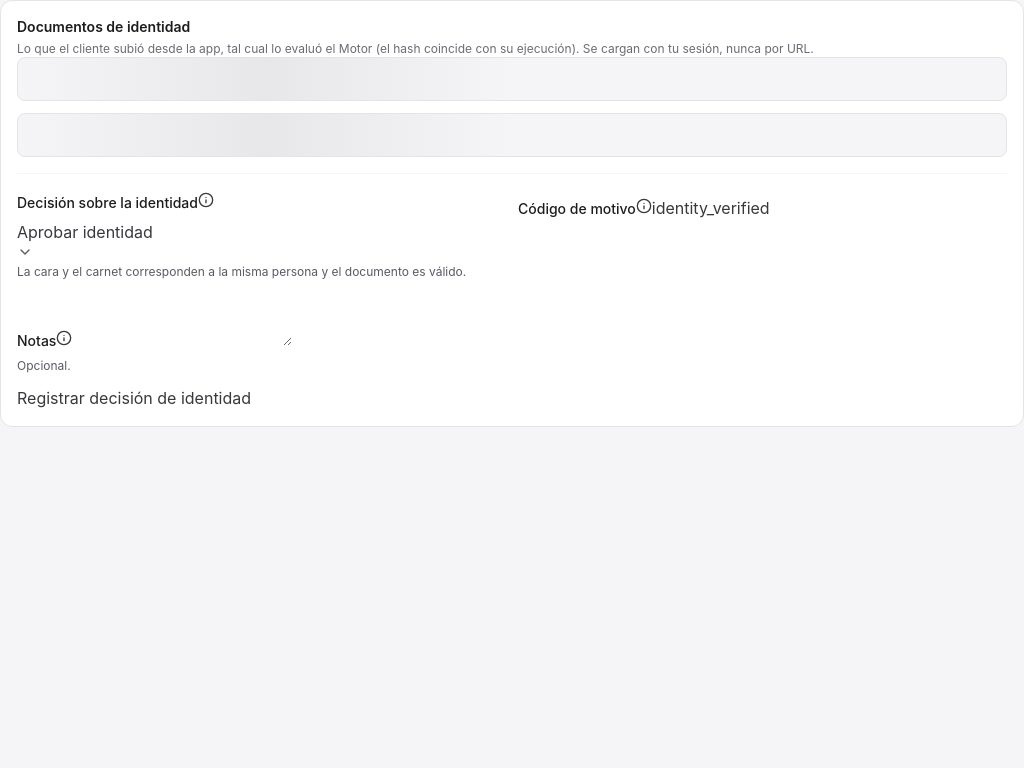
Test: IdentityEvidencePanel › un 409 IDENTITY_DECISION_DELEGADA_AL_MOTOR se explica y NO se enseña como error genérico
Click the button "Registrar decisión de identidad" at point(134, 398), box [17,386,251,410]
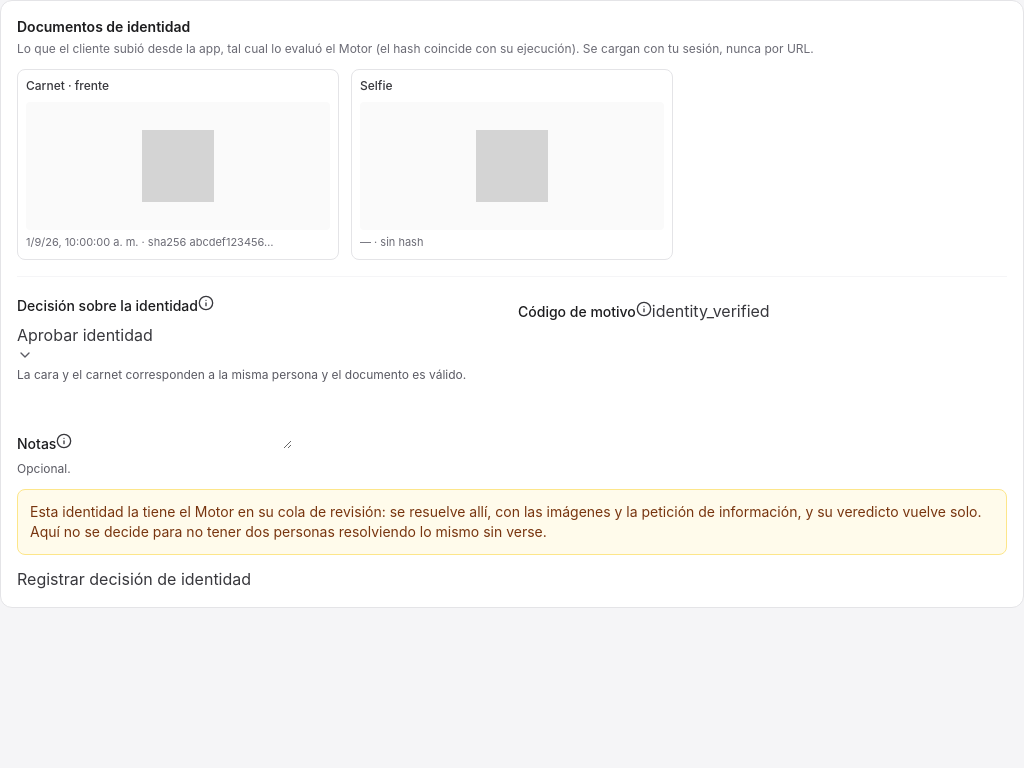
Check: the text with test id "identity-delegada" is shown, box [17,488,1007,554]
